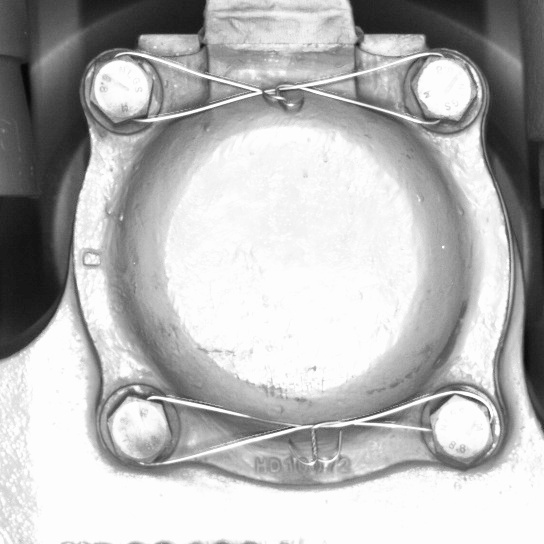IronWire: (75, 40, 485, 133), (94, 387, 504, 474)
Screw: (77, 41, 163, 140), (93, 385, 179, 474), (418, 383, 503, 473), (404, 46, 485, 134)
